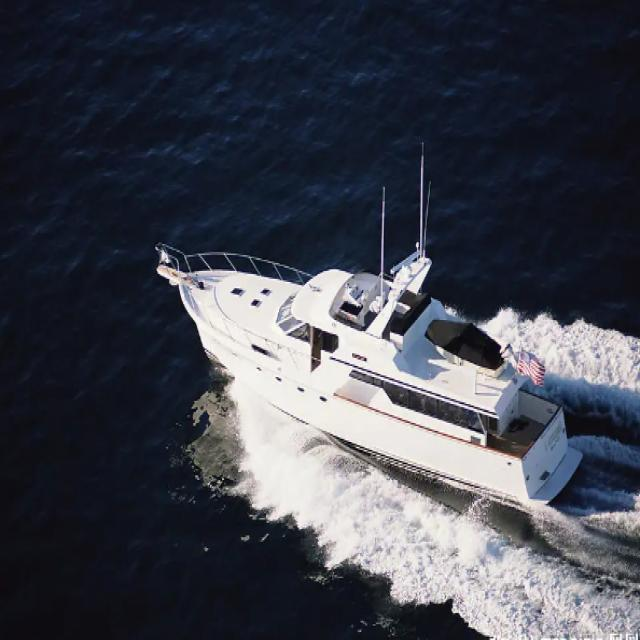houseboat: (154, 166, 596, 544)
